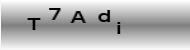7: (47, 7, 63, 21)
A: (70, 10, 87, 24)
T: (26, 17, 41, 31)
d: (97, 9, 111, 22)
i: (115, 21, 121, 35)
